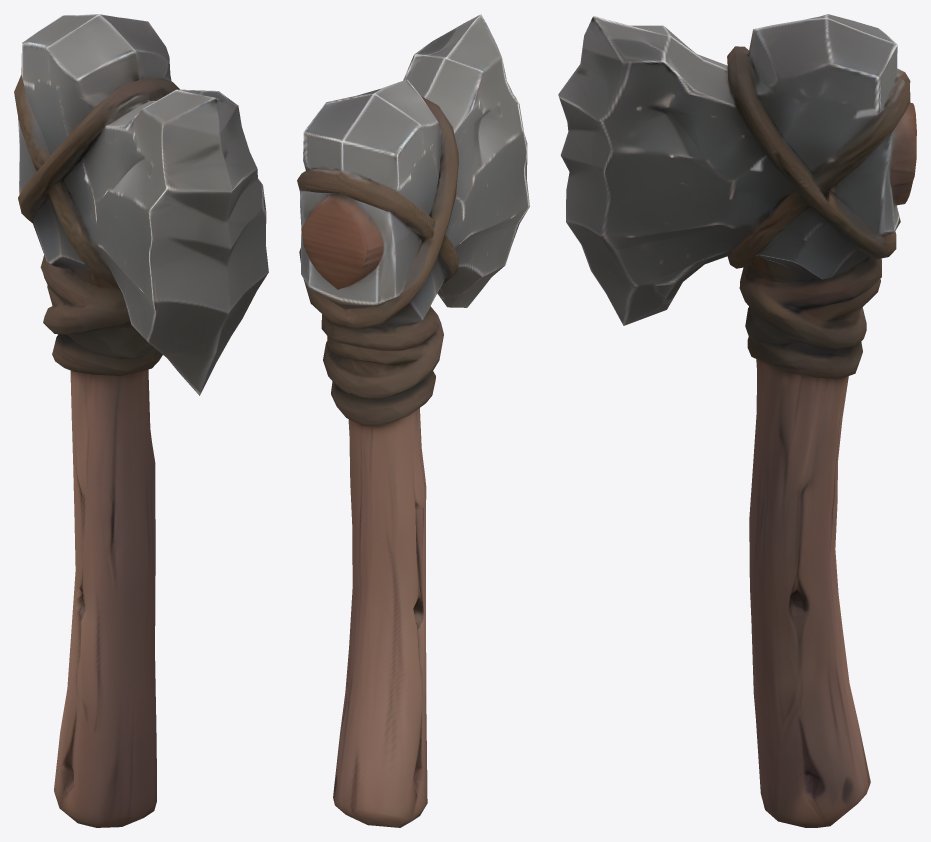
Rendered from base_basic_shaded.fbx.
3 views of the same model, side by side, from view 1: azimuth 30°, elevation 25°; view 2: azimuth 150°, elevation 25°; view 3: azimuth 270°, elevation 25° (orthographic). The views are drawn at different scales.
Visible parts, largest first — view 1: model; view 2: model; view 3: model.
Boxes of the visible parts, x1,y1,x2,y2 form: model: (14, 14, 268, 827); model: (297, 14, 529, 827); model: (558, 14, 916, 827).
Bounding box in the file's own units: 32.41 × 178 × 72.65.
